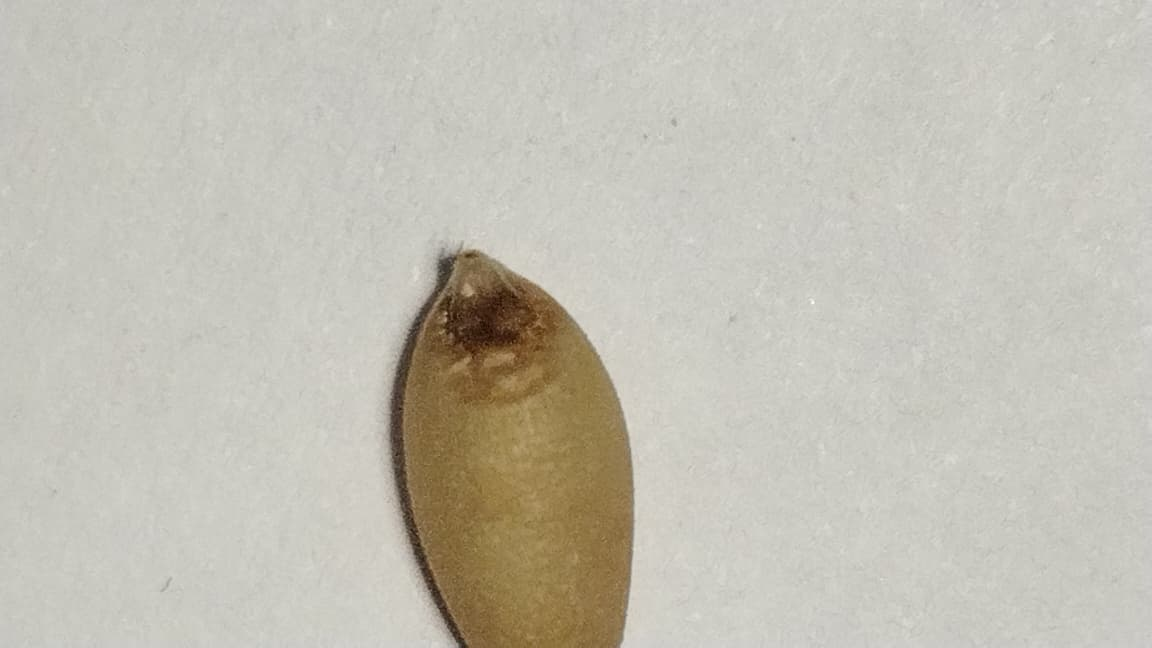black_point: (415, 276, 569, 376)
healthy: (407, 246, 632, 647)
